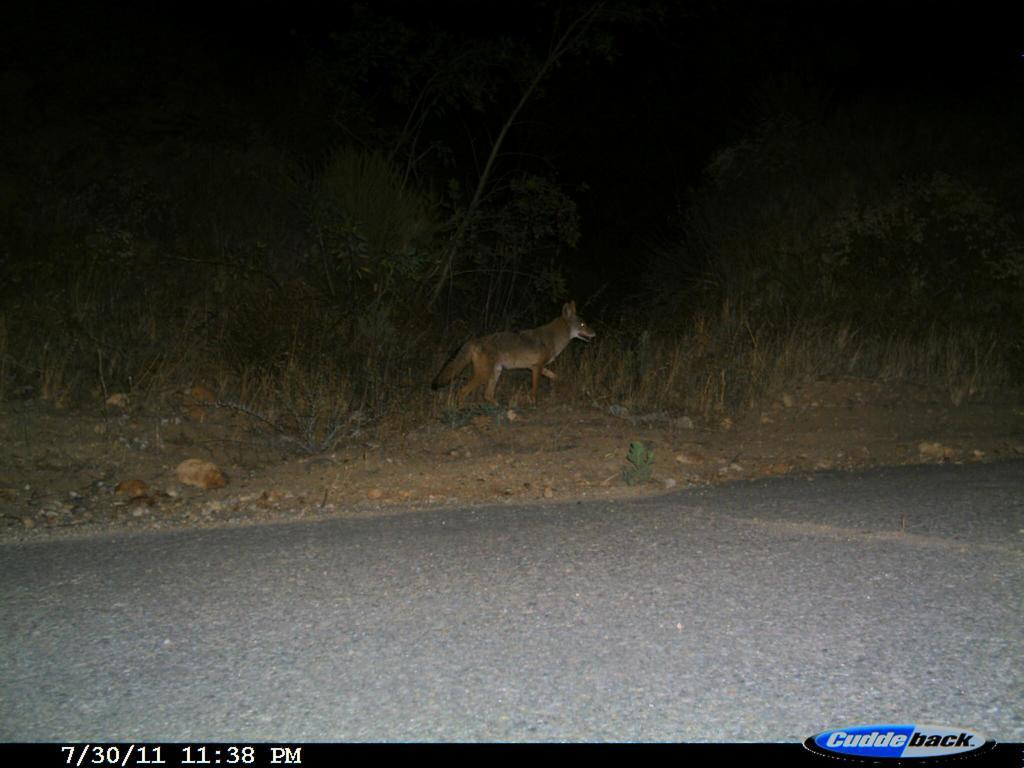coyote: (427, 297, 602, 413)
